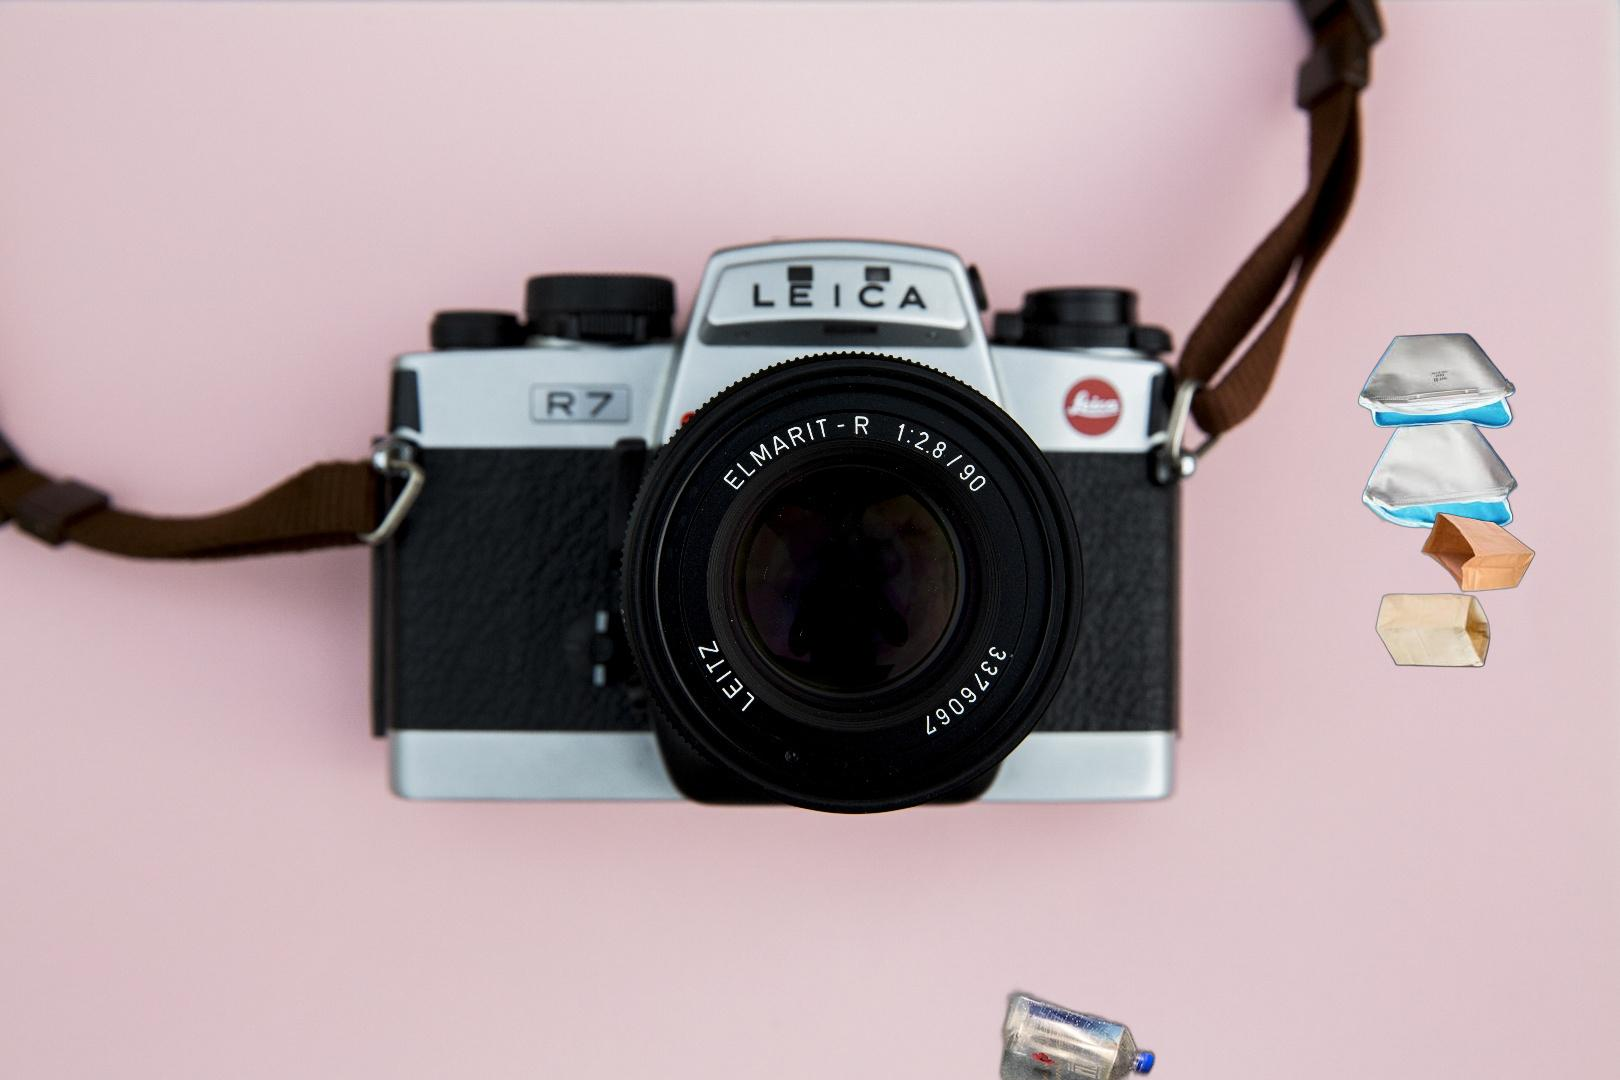clothes: (626, 1078, 953, 1080)
paper-bag: (1373, 509, 1538, 669)
plastic-bottles: (994, 981, 1160, 1080)
trash: (1355, 331, 1520, 533)
